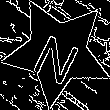N_NE: (29, 20, 86, 83)
